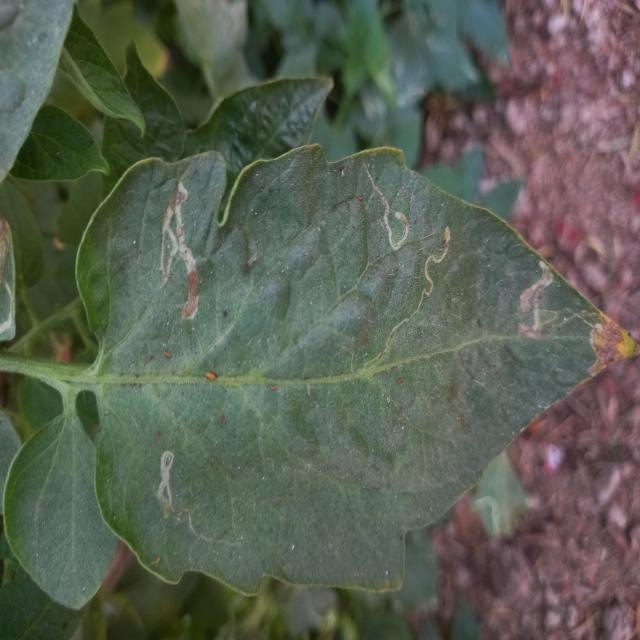Tuta absoluta: (494, 259, 640, 402), (387, 225, 461, 350), (159, 181, 199, 320), (366, 162, 415, 251), (156, 450, 176, 507)
